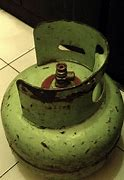gas_ijo: (1, 21, 124, 180)
